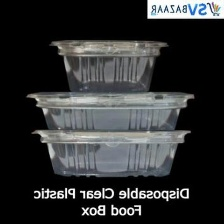plastic_box: (26, 123, 196, 182), (20, 85, 199, 137), (45, 33, 173, 99)
